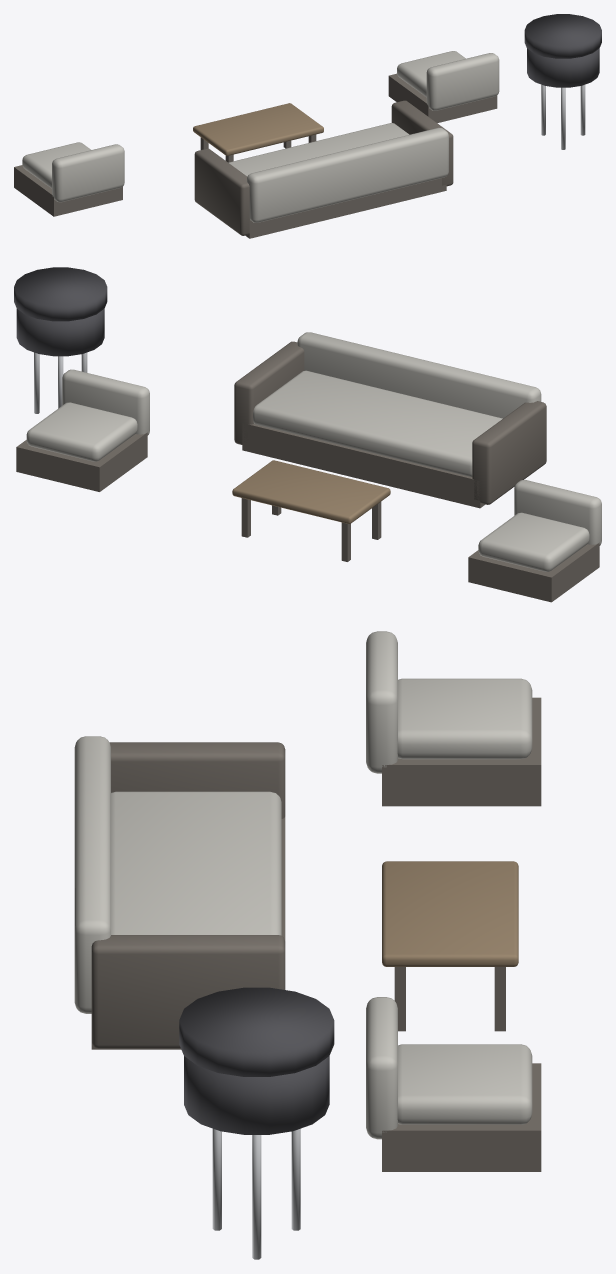
The model's file is patio.glb.
3 renders of one model, top to bottom at view 1: azimuth 30°, elevation 25°; view 2: azimuth 150°, elevation 25°; view 3: azimuth 270°, elevation 25°, orthographic. The views are drawn at different scales.
Parts seen in each view (by area): view 1: Patio; view 2: Patio; view 3: Patio.
Boxes of the visible parts, x1,y1,x2,y2 form: Patio: [14, 14, 601, 238]; Patio: [14, 267, 601, 602]; Patio: [74, 631, 541, 1259].
Bounding box in the file's own units: 5.18 × 1.06 × 2.05.
